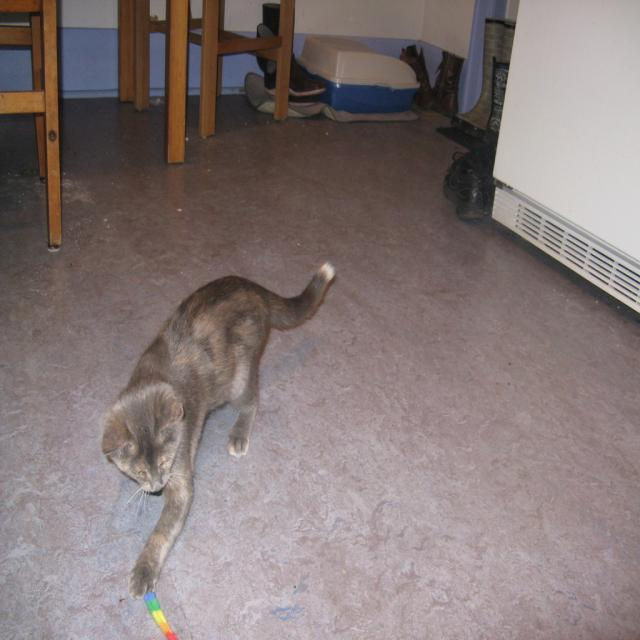Cat: (100, 246, 336, 594)
